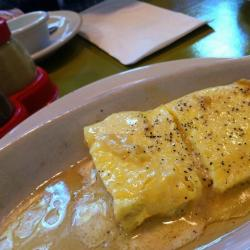omelette: (88, 83, 250, 225)
